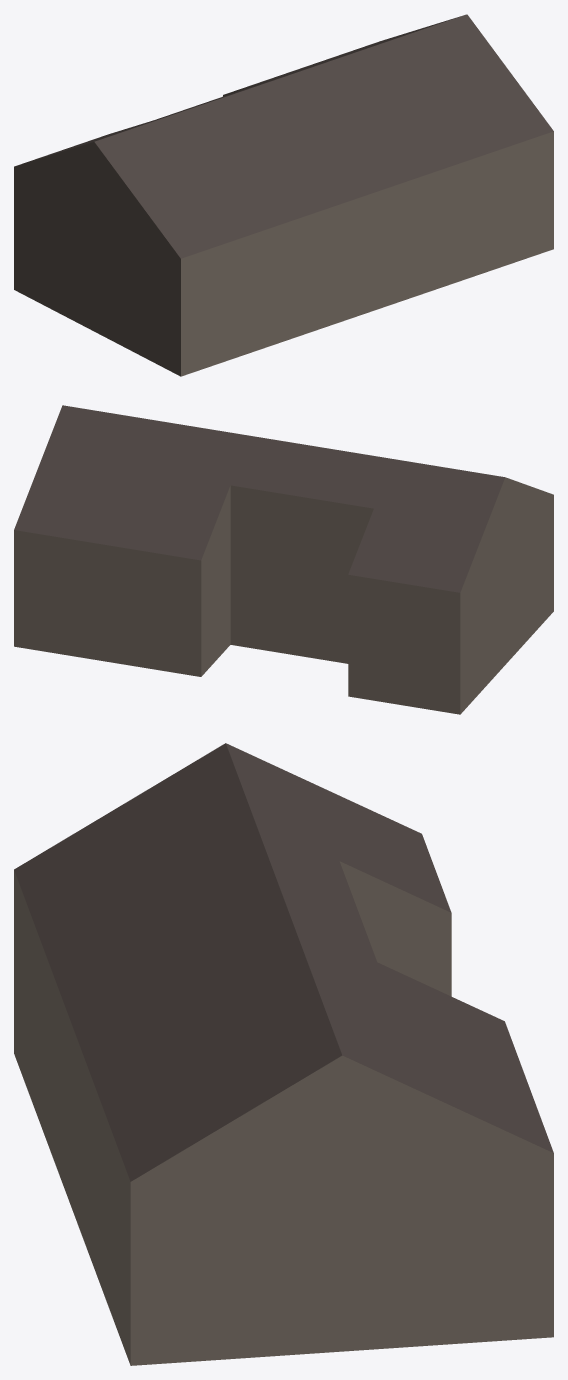
The picture shows the model from 3 angles, top to bottom: view 1: azimuth 30°, elevation 25°; view 2: azimuth 150°, elevation 25°; view 3: azimuth 270°, elevation 25°; orthographic projection. The views are drawn at different scales.
Visible parts, largest first — view 1: HP-w1376988700; view 2: HP-w1376988700; view 3: HP-w1376988700.
Part boxes in pixels (left/top/right/bottom): HP-w1376988700: left=14, top=14, right=553, bottom=376; HP-w1376988700: left=14, top=405, right=553, bottom=714; HP-w1376988700: left=14, top=743, right=553, bottom=1365.
Bounding box in the file's own units: 23.78 × 9.66 × 15.97.
